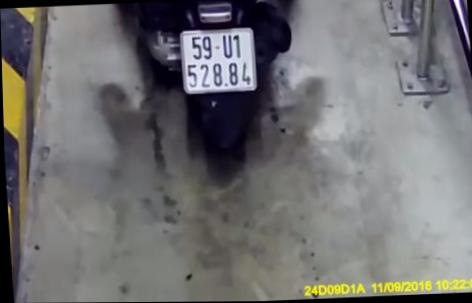LP: (178, 27, 259, 95)
